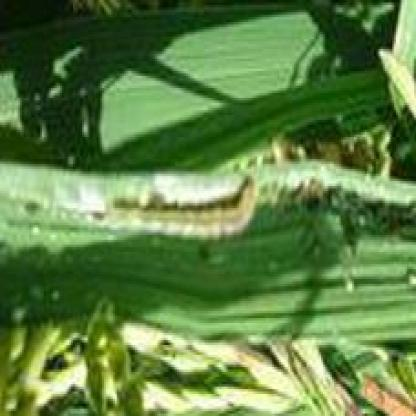leaf-folder: (103, 166, 265, 256)
